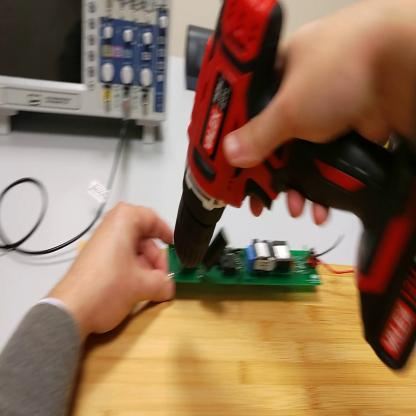electric screwdriver: (176, 2, 416, 375)
hand: (221, 7, 396, 225), (73, 202, 176, 334)
high voltage board: (168, 201, 351, 291)
oscilloscope: (2, 3, 175, 142)
working area: (76, 238, 416, 415)
